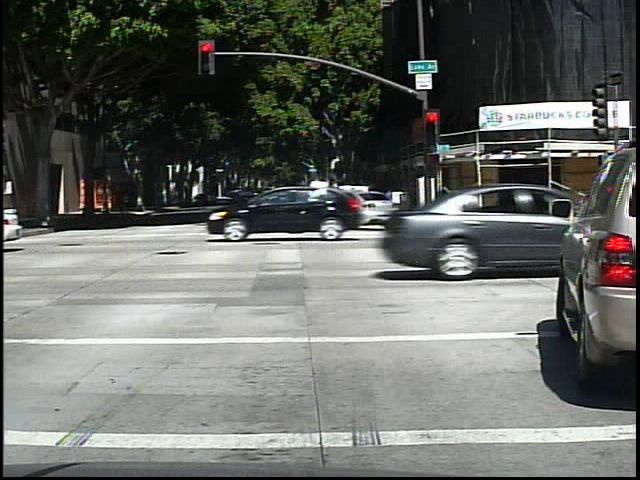person: (97, 185, 111, 219)
